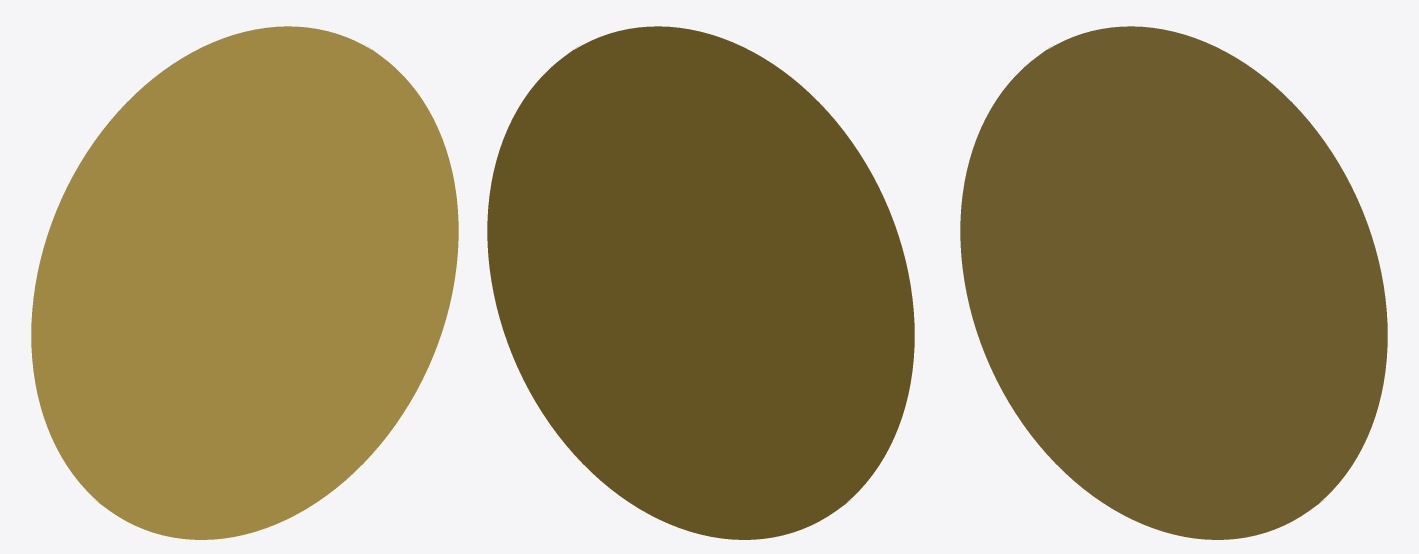
The model's file is SG-HEEL-POST-OVAL_LEFT_addon.glb.
The picture shows the model from 3 angles, left to right: view 1: azimuth 30°, elevation 25°; view 2: azimuth 150°, elevation 25°; view 3: azimuth 330°, elevation 25°; orthographic projection.
Visible parts, largest first — view 1: heel-post-oval-true.stl; view 2: heel-post-oval-true.stl; view 3: heel-post-oval-true.stl.
Part boxes in pixels (bbox=[...]): heel-post-oval-true.stl: bbox=[31, 26, 458, 539]; heel-post-oval-true.stl: bbox=[487, 26, 914, 539]; heel-post-oval-true.stl: bbox=[960, 26, 1387, 539].
Size of the model in its own units: 61.2 by 68.8 by 4.2.
